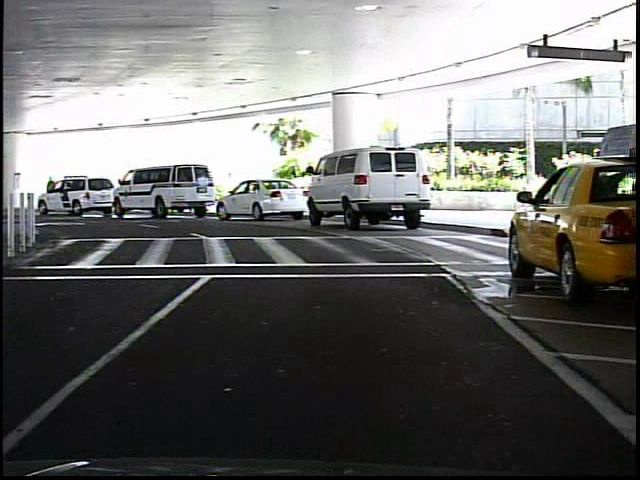person: (44, 173, 60, 210)
